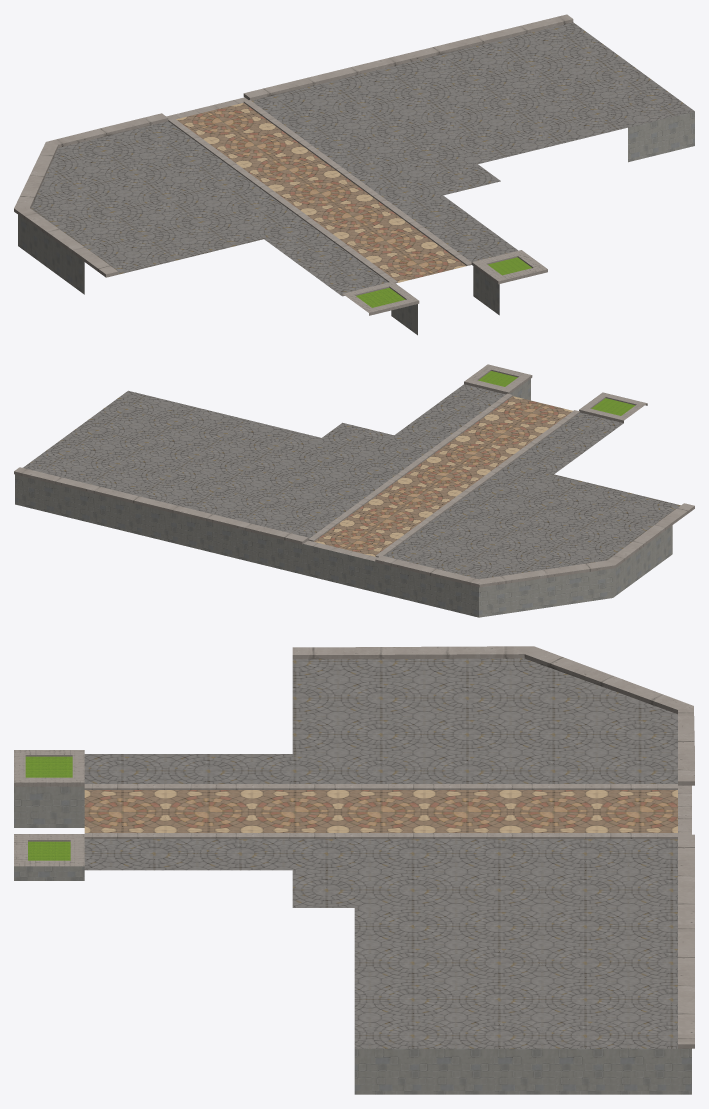
File: TownGroundTile_H.fbx
3 renders of one model, top to bottom at view 1: azimuth 30°, elevation 25°; view 2: azimuth 150°, elevation 25°; view 3: azimuth 270°, elevation 25°, orthographic. The views are drawn at different scales.
Parts seen in each view (by area): view 1: TownGroundTile_H; view 2: TownGroundTile_H; view 3: TownGroundTile_H.
Boxes of the visible parts, box(x1,y1,x2,y2) form: TownGroundTile_H: box(14, 14, 694, 335); TownGroundTile_H: box(14, 364, 694, 617); TownGroundTile_H: box(14, 646, 694, 1094).
Size of the model in its own units: 9126 by 539 by 6598.
5 materials, 5 textured.
